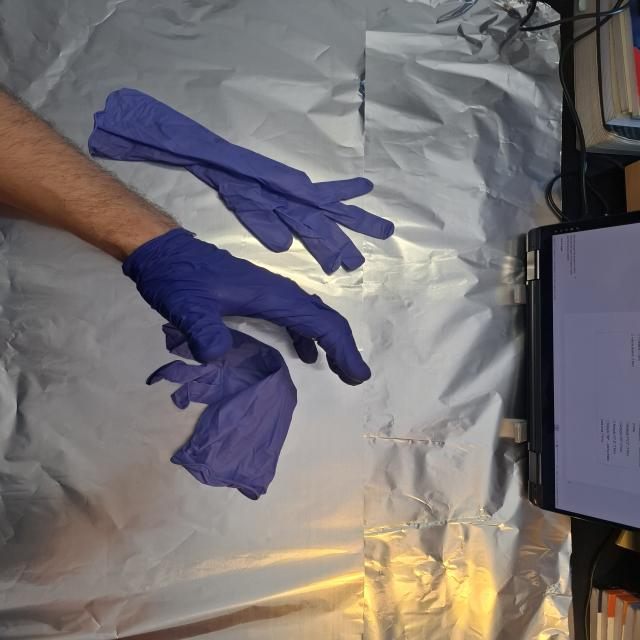glove_on: (122, 230, 376, 388)
